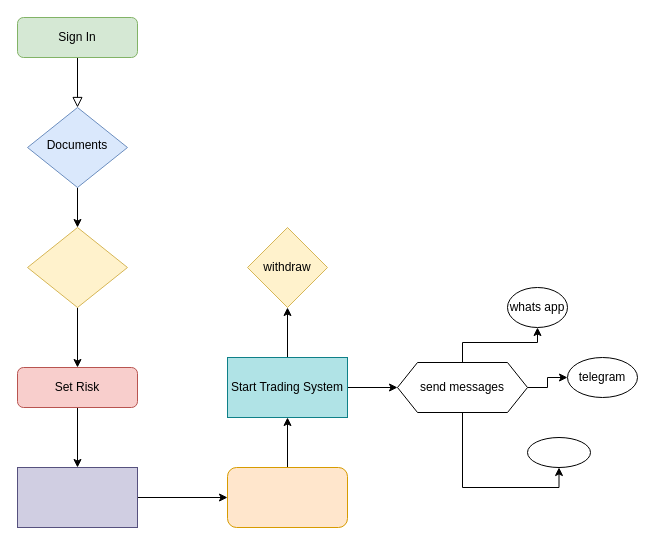
The diagram is 655 pixels wide and 545 high, and some of its shapes have lost their labels. Here are the shapes that lost their labels. From the top down, the box of each, then its label:
(26, 226, 128, 308): Deposit cash
(526, 436, 590, 468): email
(16, 466, 138, 528): set portfolio parameters
(226, 466, 348, 528): test parameters
